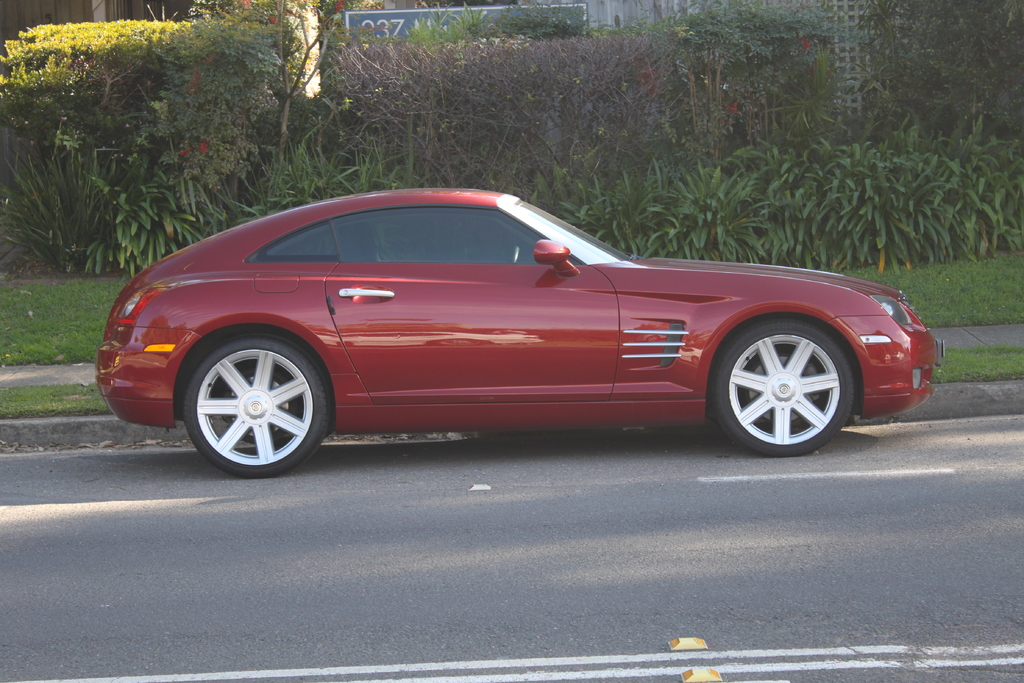Car: (91, 184, 947, 477)
